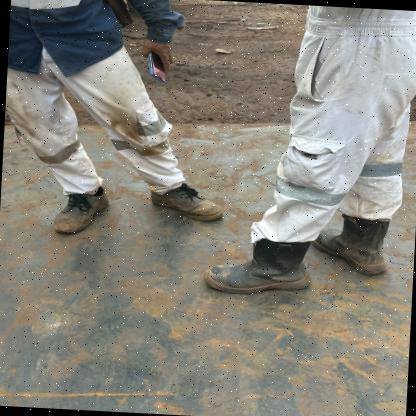bota: (199, 233, 317, 298), (318, 209, 390, 284), (44, 184, 122, 240), (138, 182, 226, 224)
